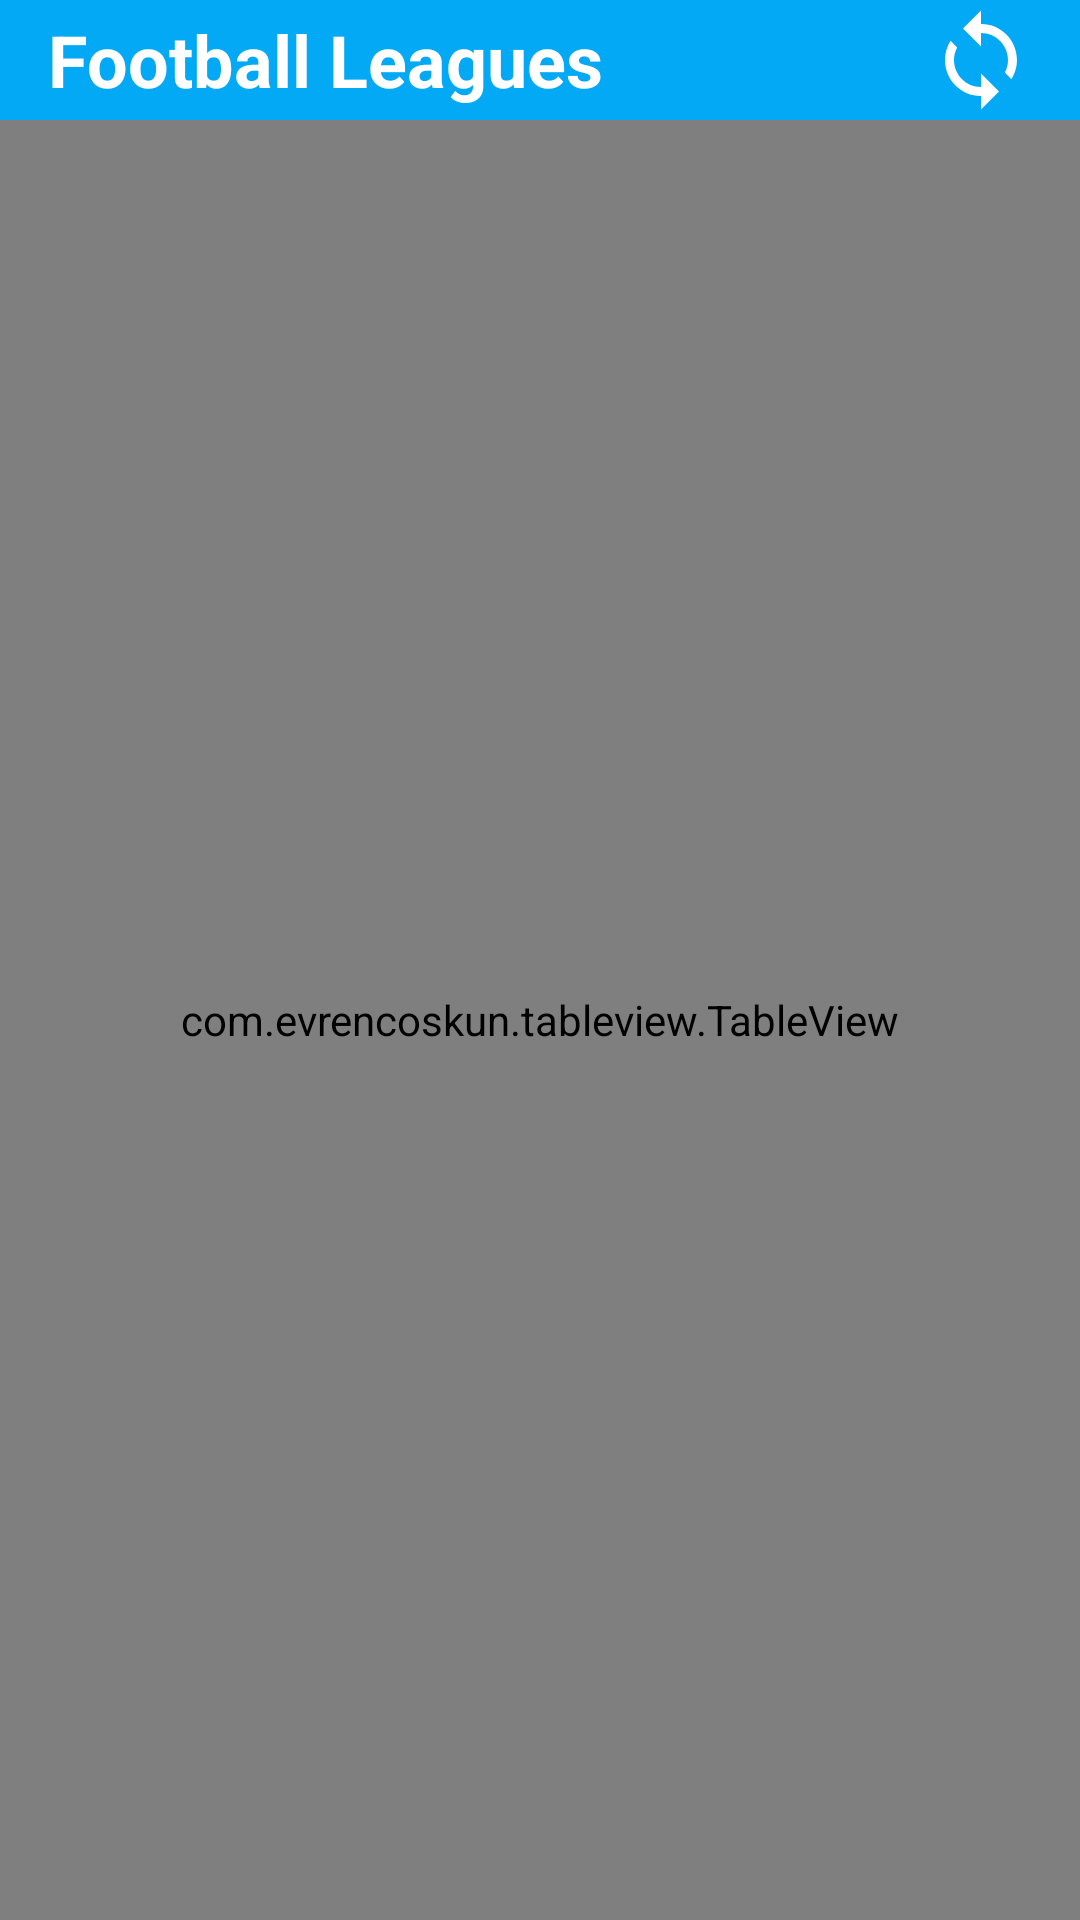

Screen size 1080px×1920px. Icon name, then its center in pixels as point (x, y):
sync: point (981, 60)
